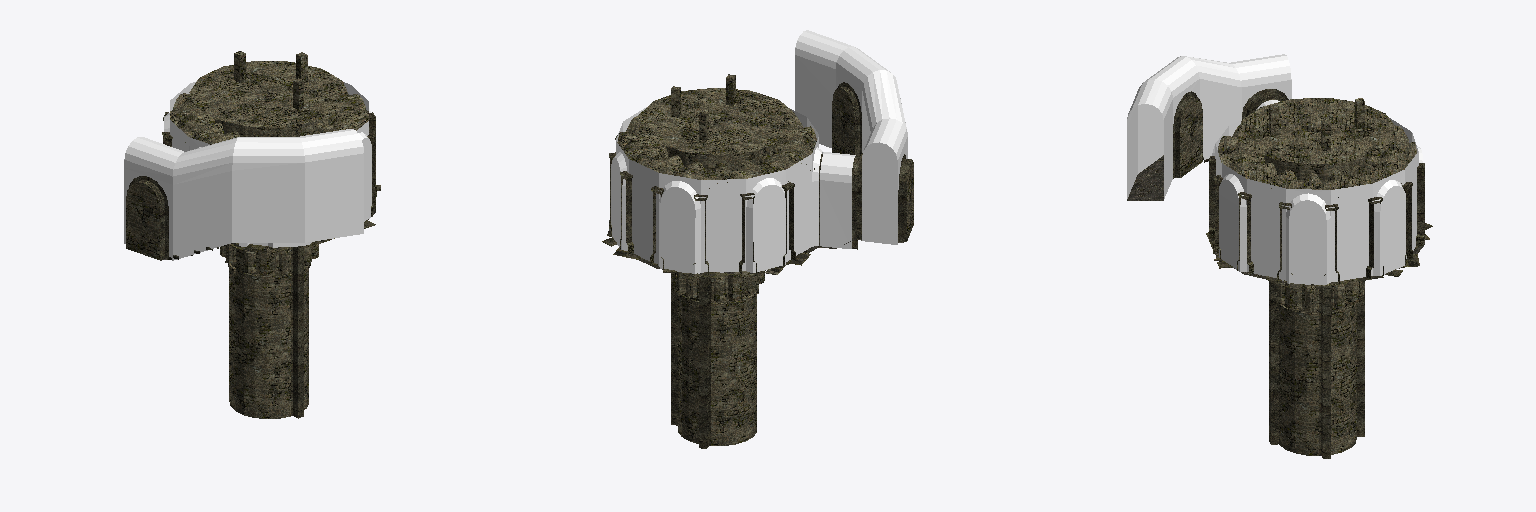
The picture shows the model from 3 angles: view 1: azimuth 30°, elevation 25°; view 2: azimuth 150°, elevation 25°; view 3: azimuth 270°, elevation 25°; orthographic projection.
Parts seen in each view (by area): view 1: mesh4, mesh2, mesh3; view 2: mesh2, mesh4, mesh3, mesh1; view 3: mesh2, mesh4, mesh3, mesh0, mesh1, mesh8.
Part boxes in pixels (bbox=[...]): mesh4: bbox=[126, 51, 368, 418]; mesh2: bbox=[124, 81, 371, 260]; mesh3: bbox=[129, 112, 375, 418]; mesh2: bbox=[611, 30, 907, 273]; mesh4: bbox=[617, 74, 913, 445]; mesh3: bbox=[609, 82, 911, 448]; mesh1: bbox=[602, 230, 810, 279]; mesh2: bbox=[1127, 54, 1422, 284]; mesh4: bbox=[1180, 97, 1416, 455]; mesh3: bbox=[1173, 89, 1424, 458]; mesh0: bbox=[1127, 155, 1424, 283]; mesh1: bbox=[1206, 223, 1432, 289]; mesh8: bbox=[1209, 161, 1424, 283].
Size of the model in its own units: 15.52 by 18.5 by 15.32.
9 materials, 7 textured.